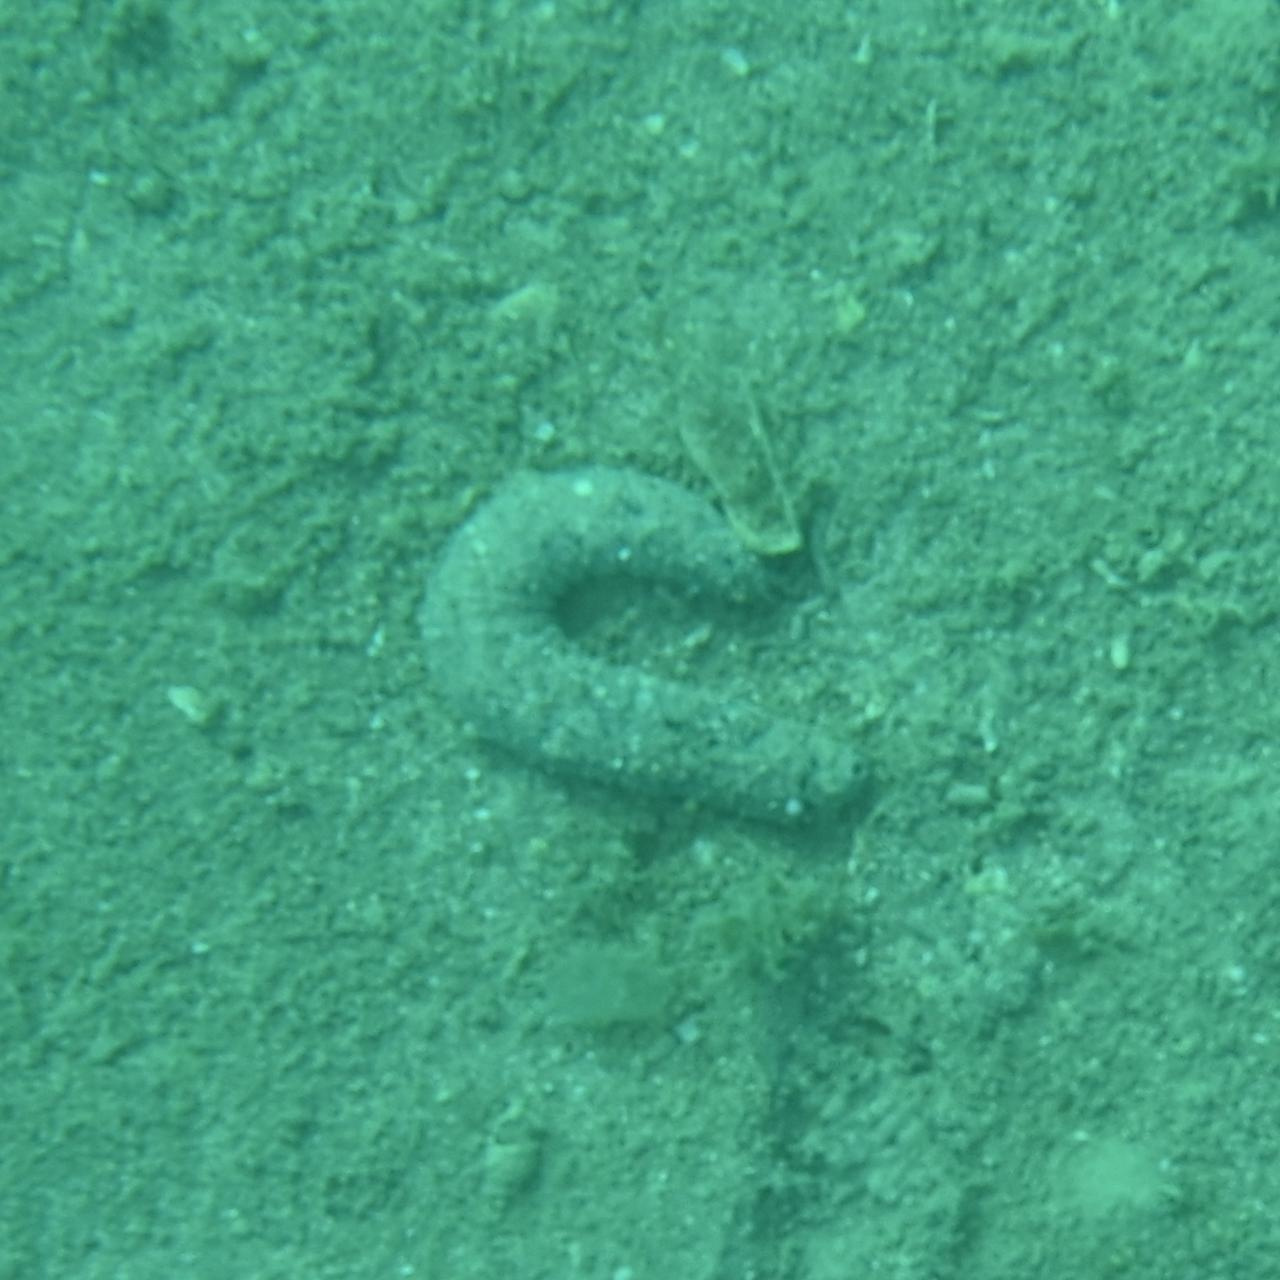Holothuria tubulosa: (411, 447, 869, 833)
